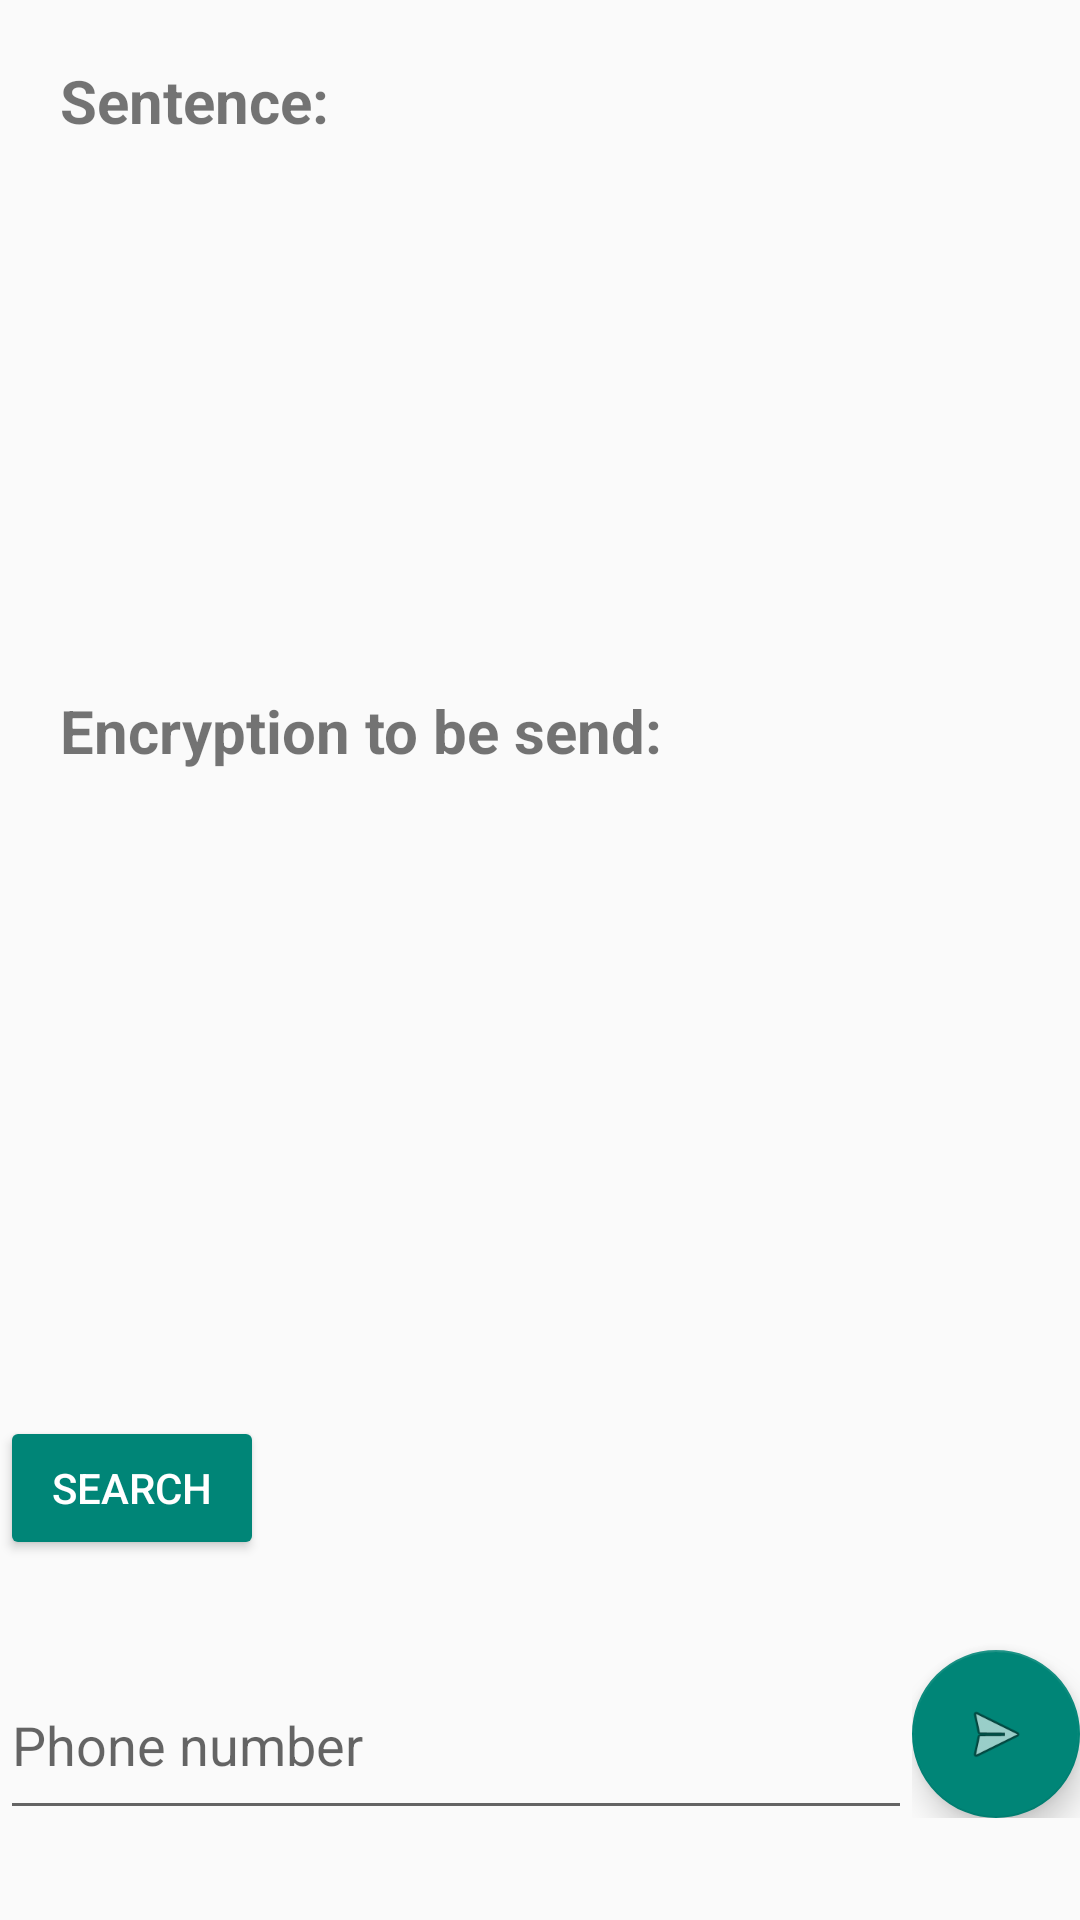

Icon click points for this 1080px×1920px phone screenshot, format (x,y):
send: (996,1734)
